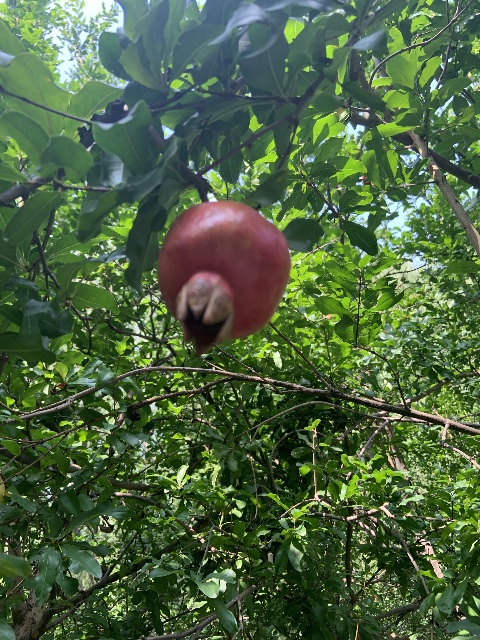ripe: (157, 200, 290, 354)
